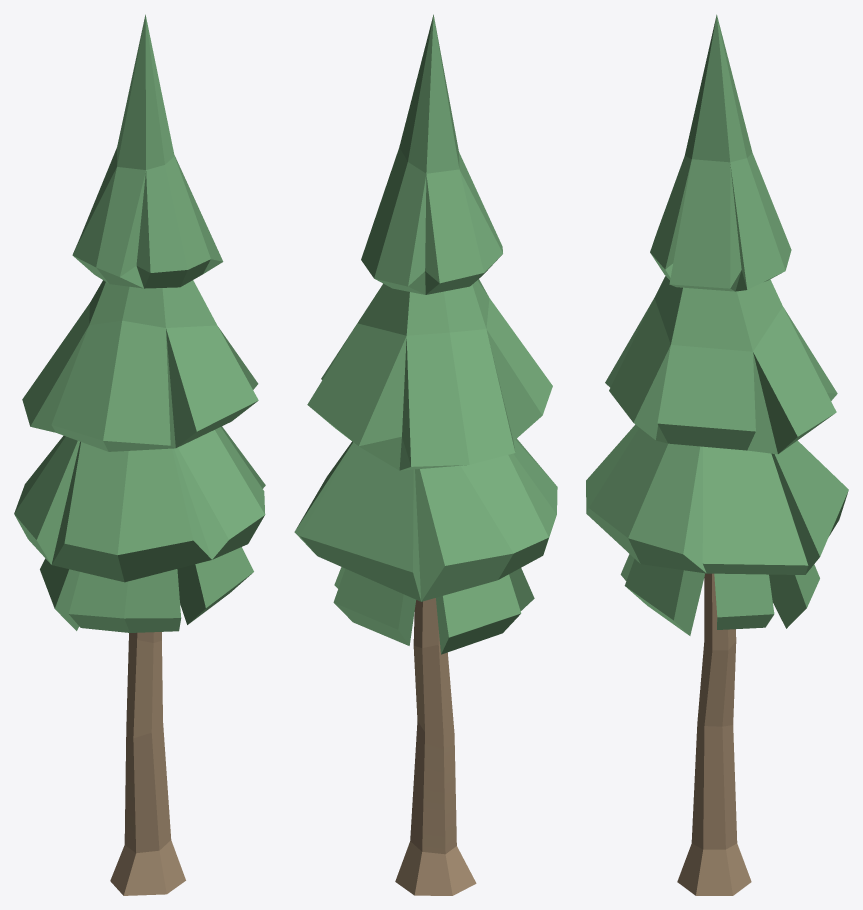
Rendered from tree-forest.glb.
3 renders of one model, left to right at view 1: azimuth 30°, elevation 25°; view 2: azimuth 150°, elevation 25°; view 3: azimuth 270°, elevation 25°, orthographic.
Parts seen in each view (by area): view 1: tree_forest; view 2: tree_forest; view 3: tree_forest.
Boxes of the visible parts, <box> form: tree_forest: <box>14,14,265,895</box>; tree_forest: <box>294,14,557,895</box>; tree_forest: <box>586,14,848,895</box>.
Size of the model in its own units: 241 by 885 by 243.
